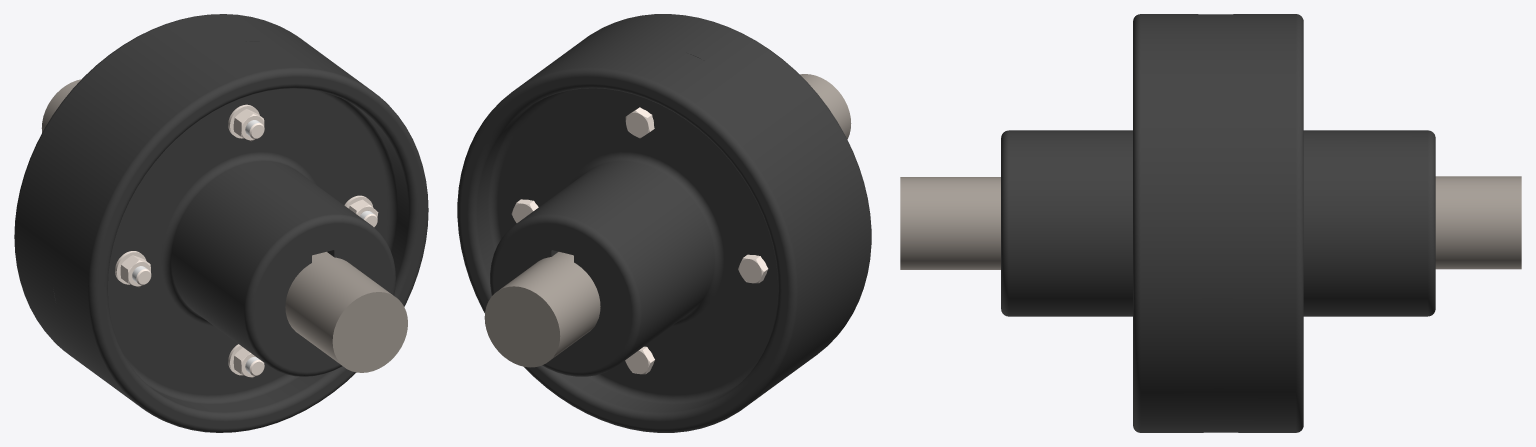
File: Protected_flange_couple.glb
The picture shows the model from 3 angles, left to right: view 1: azimuth 30°, elevation 25°; view 2: azimuth 150°, elevation 25°; view 3: azimuth 270°, elevation 25°; orthographic projection. The views are drawn at different scales.
Visible parts, largest first — view 1: recess flange-1, spigot flange-2, shaft-2, shaft-1, hex nut style 1 gradeab_iso-1, hex nut style 1 gradeab_iso-4; view 2: spigot flange-2, recess flange-1, shaft-1, shaft-2, hex bolt gradeab_iso-5, hex bolt gradeab_iso-8, hex bolt gradeab_iso-7, hex bolt gradeab_iso-6; view 3: recess flange-1, spigot flange-2, shaft-2, shaft-1.
Boxes of the visible parts, x1,y1,x2,y2 form: recess flange-1: (51, 41, 428, 432); spigot flange-2: (14, 14, 331, 380); shaft-2: (285, 252, 407, 372); shaft-1: (41, 79, 81, 132); hex nut style 1 gradeab_iso-1: (120, 255, 150, 287); hex nut style 1 gradeab_iso-4: (233, 109, 264, 141); spigot flange-2: (457, 41, 834, 432); recess flange-1: (553, 14, 871, 381); shaft-1: (484, 252, 600, 367); shaft-2: (800, 74, 851, 139); hex bolt gradeab_iso-5: (738, 254, 768, 283); hex bolt gradeab_iso-8: (625, 107, 654, 138); hex bolt gradeab_iso-7: (625, 346, 654, 374); hex bolt gradeab_iso-6: (511, 199, 538, 222); recess flange-1: (1001, 14, 1218, 432); spigot flange-2: (1218, 14, 1435, 432); shaft-2: (900, 177, 1000, 269); shaft-1: (1435, 176, 1521, 269).
Bounding box in the file's own units: 0.27 × 0.27 × 0.4005.
